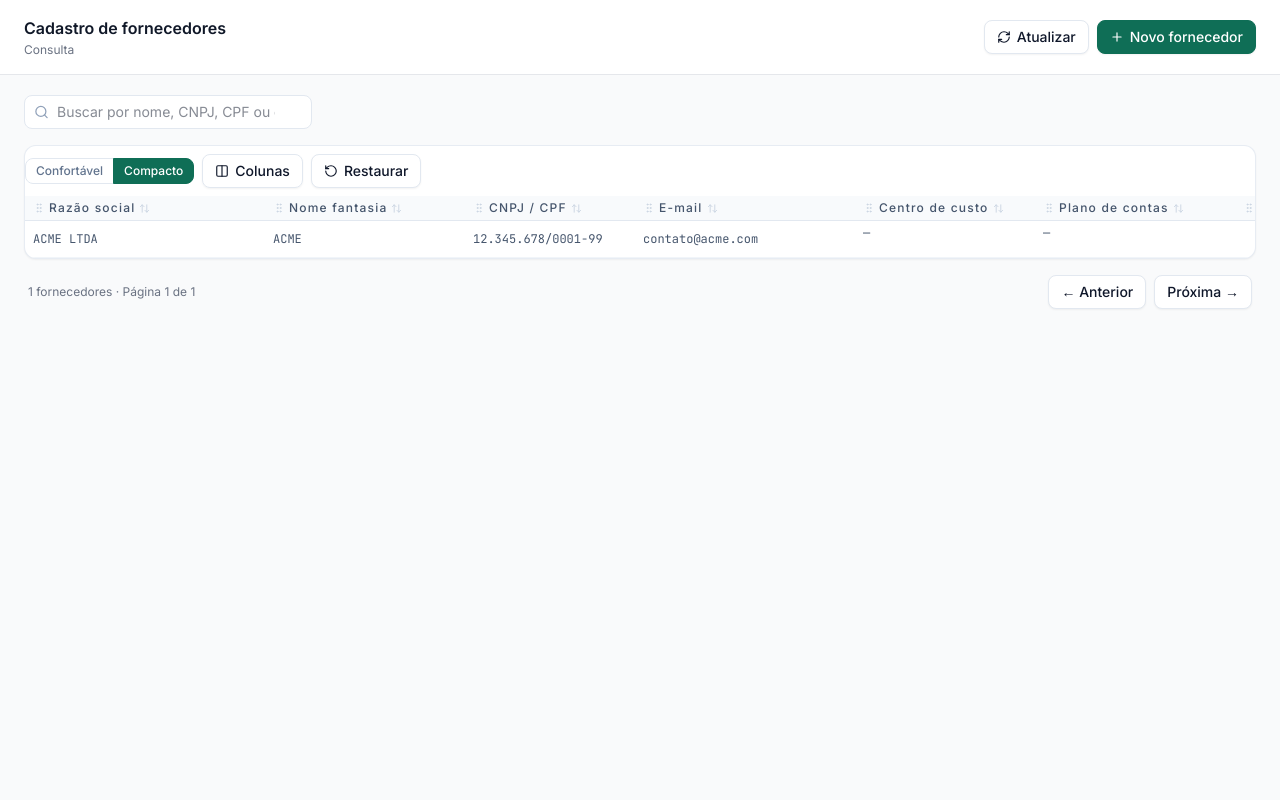
Test: SuppliersPage › abre o modal ao clicar em "Novo fornecedor"
expect the text "ACME LTDA" is shown: met, box [33, 231, 98, 247]
Click the button "Novo fornecedor" at (1176, 37), box [1097, 20, 1256, 54]
(page scrolled)
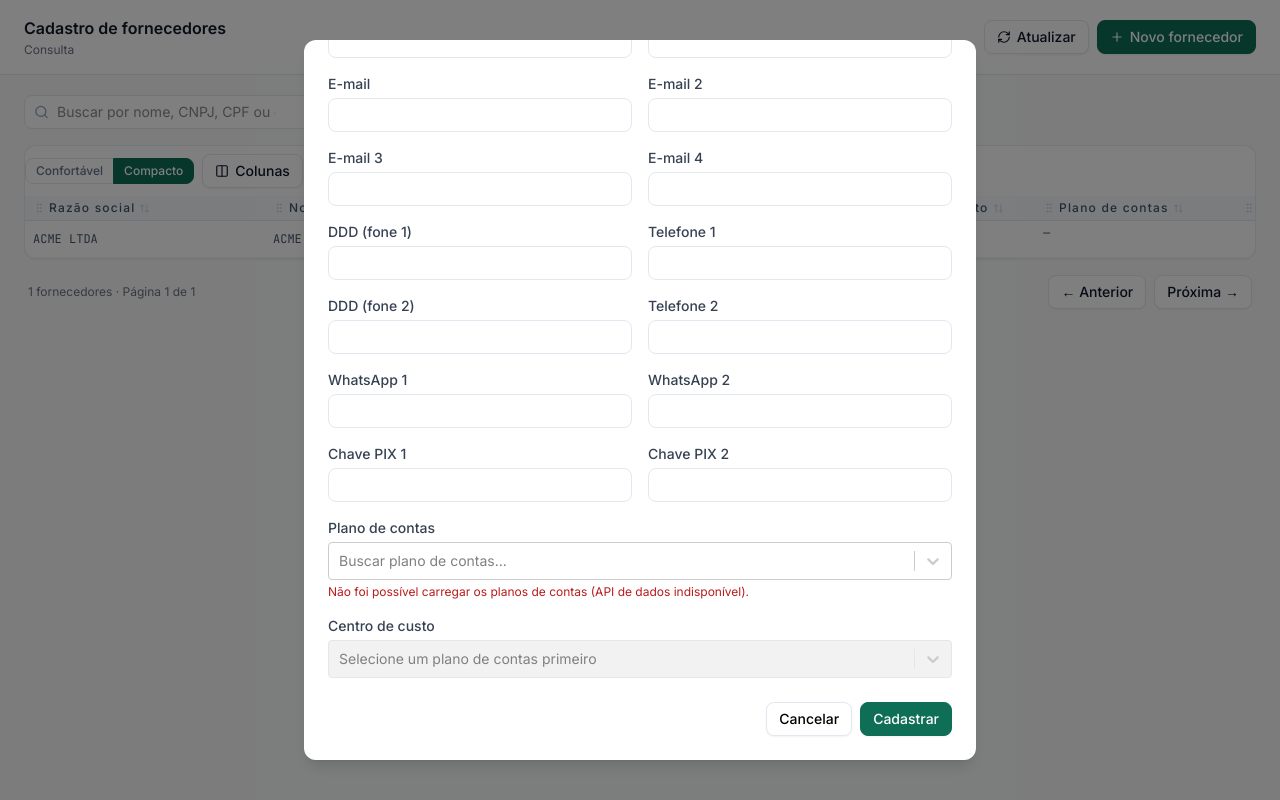
expect the button "Cadastrar" is shown: met, box [860, 702, 952, 736]
